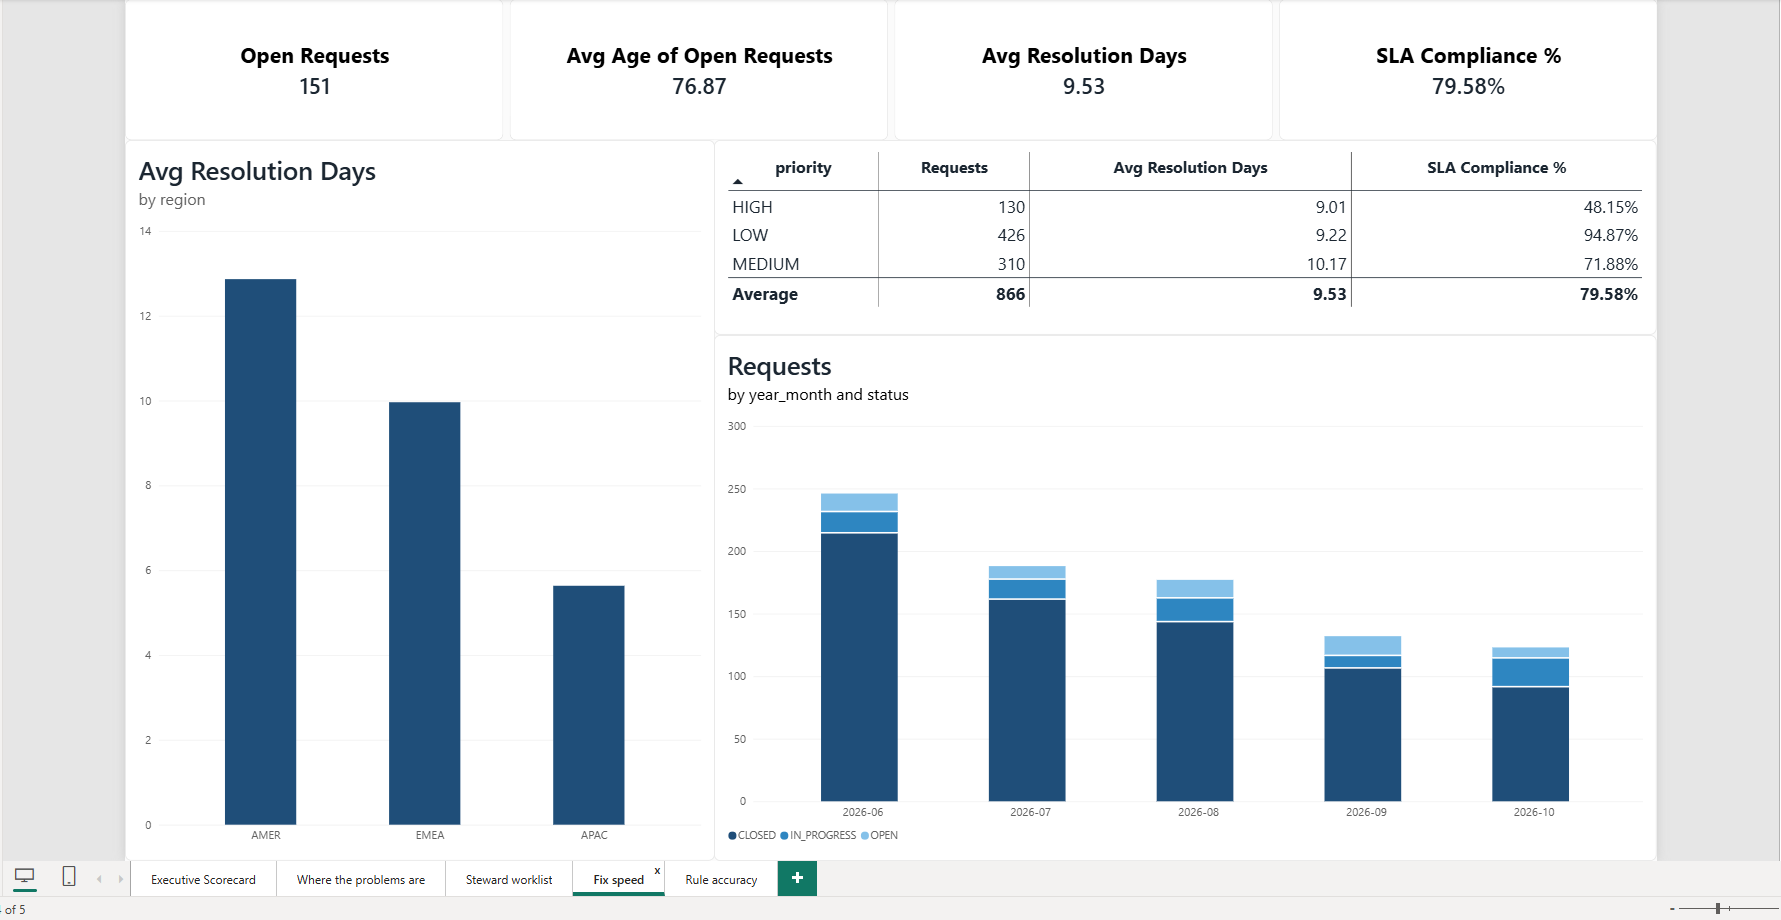

The page's visual inventory and layout, read from the dashboard file:
{"tool":"powerbi","page":{"name":"Fix speed","canvas":[1920,1080],"ordinal":3},"visuals":[{"type":"cardVisual","fields":{"Data":["_Measures.Avg Resolution Days","_Measures.SLA Compliance %","_Measures.Open Requests","_Measures.Avg Age of Open Requests"]},"box":[0,0,1920,177.1],"z":0},{"type":"columnChart","fields":{"Category":["dim_region.region_code"],"Y":["_Measures.Avg Resolution Days"]},"box":[0,177.1,738.6,902.9],"z":1000},{"type":"columnChart","fields":{"Category":["dim_date.year_month"],"Series":["fct_change_request.status"],"Y":["_Measures.Requests"]},"box":[738.6,421.4,1181.4,658.6],"z":2000},{"type":"tableEx","fields":{"Values":["fct_change_request.priority","_Measures.Requests","_Measures.Avg Resolution Days","_Measures.SLA Compliance %"]},"box":[738.6,177.1,1181.4,244.3],"z":3000}]}

Visuals, with their boxes on the page's 1920x1080 design canvas (x1, y1, x2, y2). These are canvas units, not pixel positions in the 1781x920 screenshot, which may show the page scaled, cropped or inside an application window:
cardVisual - _Measures.Avg Resolution Days x _Measures.SLA Compliance %: Rect(0, 0, 1920, 177)
columnChart - dim_region.region_code x _Measures.Avg Resolution Days: Rect(0, 177, 739, 1080)
columnChart - dim_date.year_month x fct_change_request.status: Rect(739, 421, 1920, 1080)
tableEx - fct_change_request.priority x _Measures.Requests: Rect(739, 177, 1920, 421)
